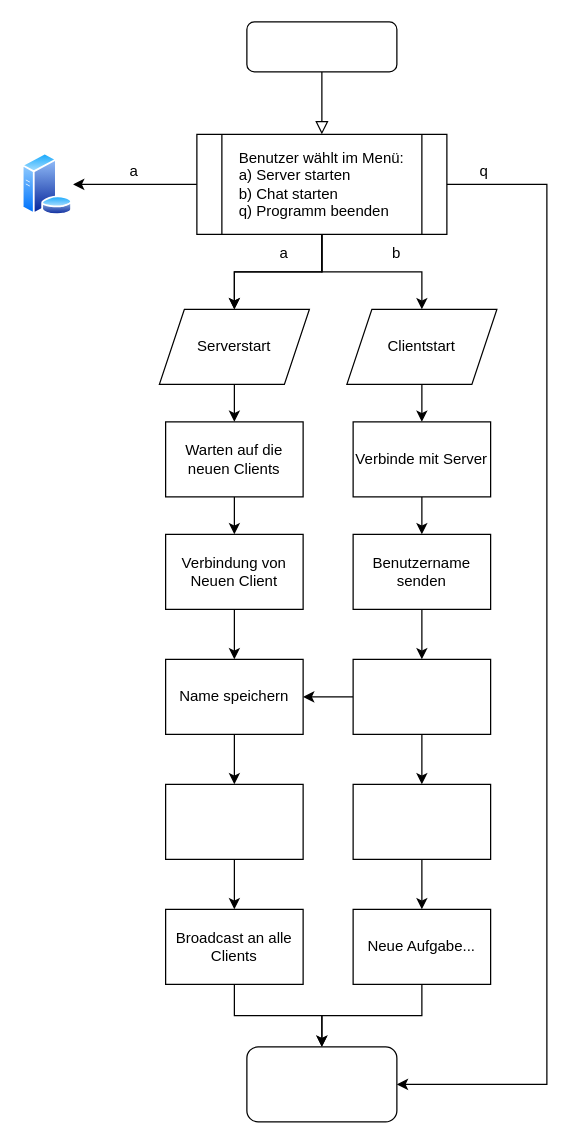
This 579x1144 diagram has some shape labels left out. The box of each missing label's shape, as (x1, y1, x2, y2) in pixels:
Den chat anzeigen: (352, 783, 491, 859)
Nachricht empfangen vom Client: (164, 783, 303, 859)
Nachricht senden und empfangen: (352, 658, 491, 734)
Program beenden: (246, 1046, 397, 1122)
Programmstart: (246, 21, 397, 72)
